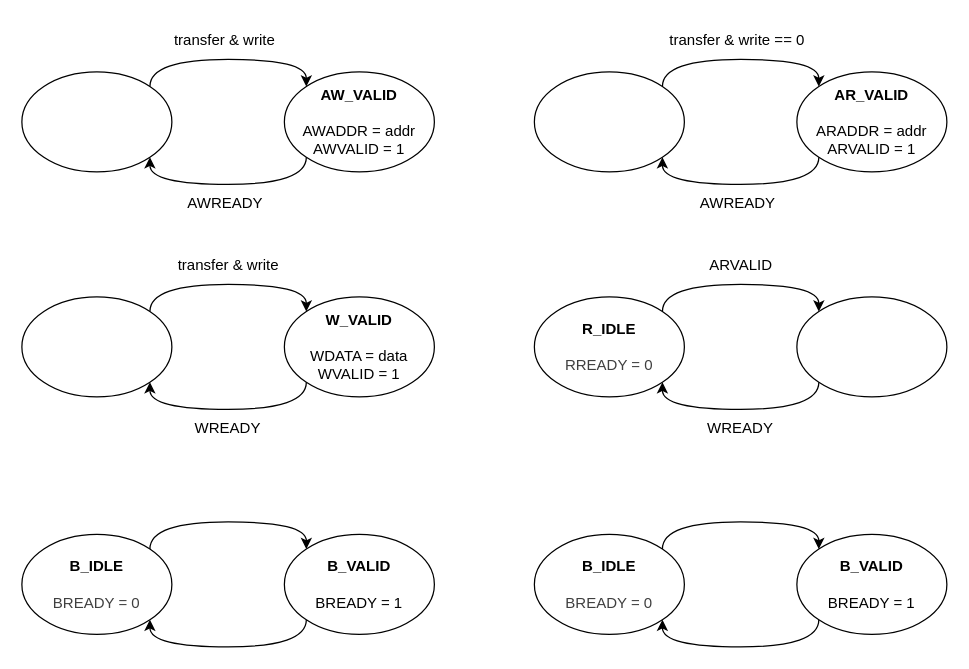
Image size: 969x669. Some labels were removed from this diagram. Here are the shapes that lost their labels. From the top down, the centre of each, then its label:
pixel 96 121: AW_IDLE AWVALID = 0
pixel 608 121: AR_IDLE ARVALID = 0
pixel 96 346: W_IDLE WVALID = 0
pixel 871 346: R_READY RDATA = data RVALID = 1
